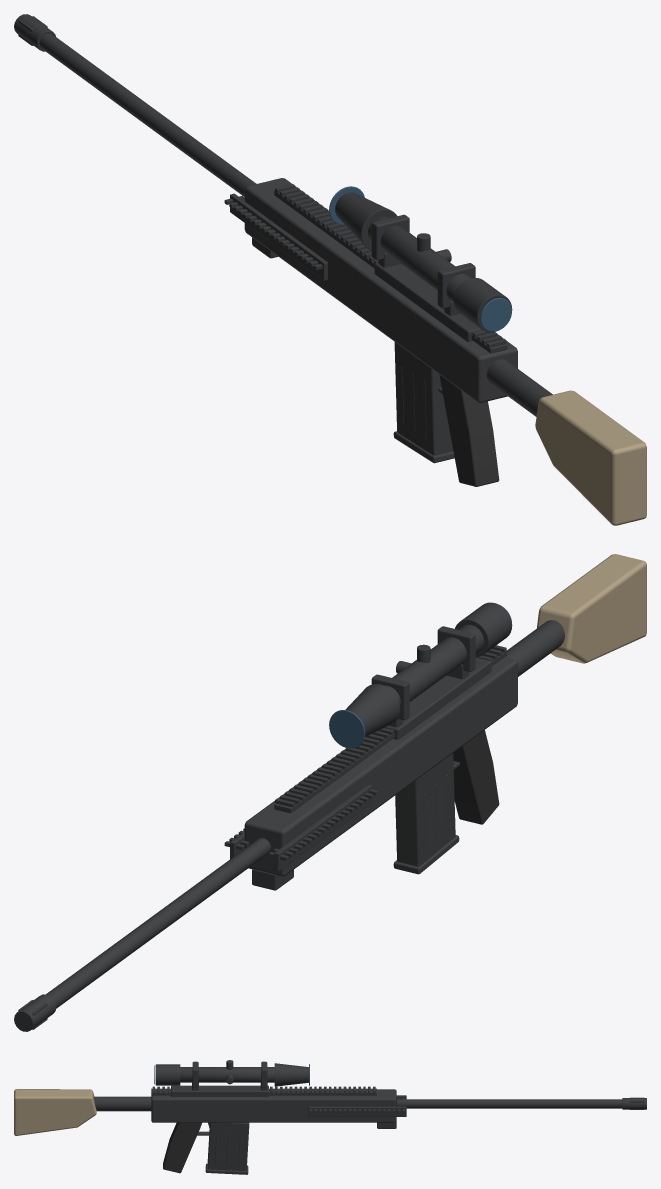
Rendered from m14ebr.glb.
3 views of the same model, one above another, from view 1: azimuth 30°, elevation 25°; view 2: azimuth 150°, elevation 25°; view 3: azimuth 270°, elevation 25° (orthographic). The views are drawn at different scales.
Visible parts, largest first — view 1: Chassis, Stock, Barrel, Mag_body, Grip, ScopeTube, Receiver, TopRail_teeth, BufferTube, ScopeBell, SideRail, ScopeEye (+5 smaller); view 2: Chassis, Stock, Barrel, Mag_body, Grip, ScopeTube, Receiver, TopRail_teeth, ScopeBell, BufferTube, ScopeEye, SideRail (+6 smaller); view 3: Chassis, Stock, Barrel, Mag_body, ScopeTube, Grip, Receiver, SideRail.001, BufferTube, TopRail, ScopeBell, ScopeEye (+4 smaller).
Part boxes in pixels (<box>): Chassis: <box>244,178,517,402</box>; Stock: <box>535,390,646,525</box>; Barrel: <box>39,33,256,196</box>; Mag_body: <box>394,342,453,455</box>; Grip: <box>439,374,499,486</box>; ScopeTube: <box>368,216,471,302</box>; Receiver: <box>374,262,482,341</box>; TopRail_teeth: <box>275,184,506,347</box>; BufferTube: <box>487,359,552,416</box>; ScopeBell: <box>335,192,397,250</box>; SideRail: <box>230,193,327,280</box>; ScopeEye: <box>454,278,512,332</box>; Chassis: <box>244,657,517,876</box>; Stock: <box>537,554,646,663</box>; Barrel: <box>46,838,270,1008</box>; Mag_body: <box>395,753,455,866</box>; Grip: <box>453,730,499,824</box>; ScopeTube: <box>385,624,484,706</box>; Receiver: <box>385,657,491,739</box>; TopRail_teeth: <box>275,645,506,807</box>; ScopeBell: <box>345,684,399,736</box>; BufferTube: <box>504,620,564,676</box>; ScopeEye: <box>455,602,512,656</box>; SideRail: <box>274,784,372,871</box>; Chassis: <box>151,1089,396,1122</box>; Stock: <box>14,1089,96,1135</box>; Barrel: <box>396,1099,622,1108</box>; Mag_body: <box>207,1122,249,1170</box>; ScopeTube: <box>180,1067,274,1082</box>; Grip: <box>163,1122,201,1173</box>; Receiver: <box>171,1085,268,1096</box>; SideRail.001: <box>308,1106,406,1116</box>; BufferTube: <box>93,1096,151,1111</box>; TopRail: <box>151,1088,376,1095</box>; ScopeBell: <box>274,1063,308,1086</box>; ScopeEye: <box>155,1064,180,1085</box>.
Size of the model in its own units: 0.076 by 0.2484 by 1.29.
